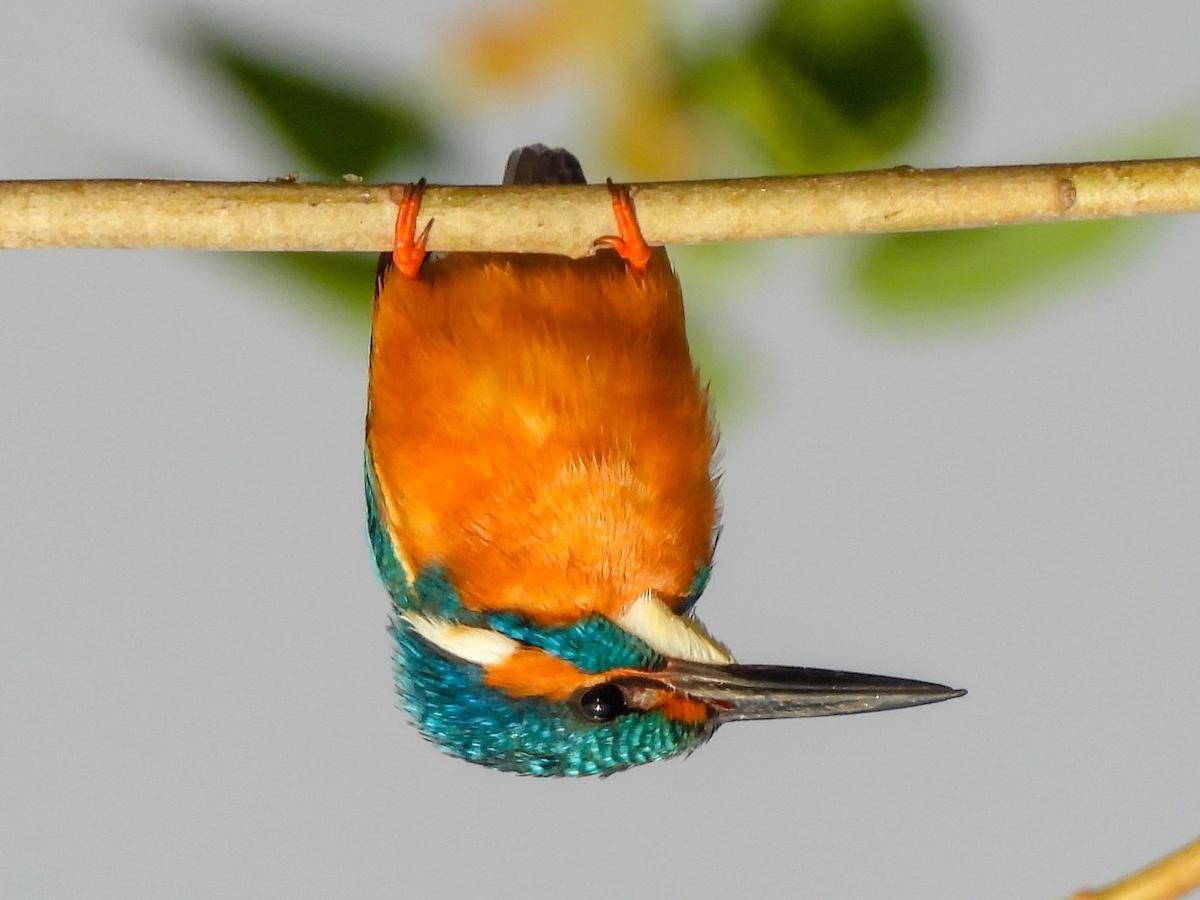kingfisher: (329, 140, 981, 778)
